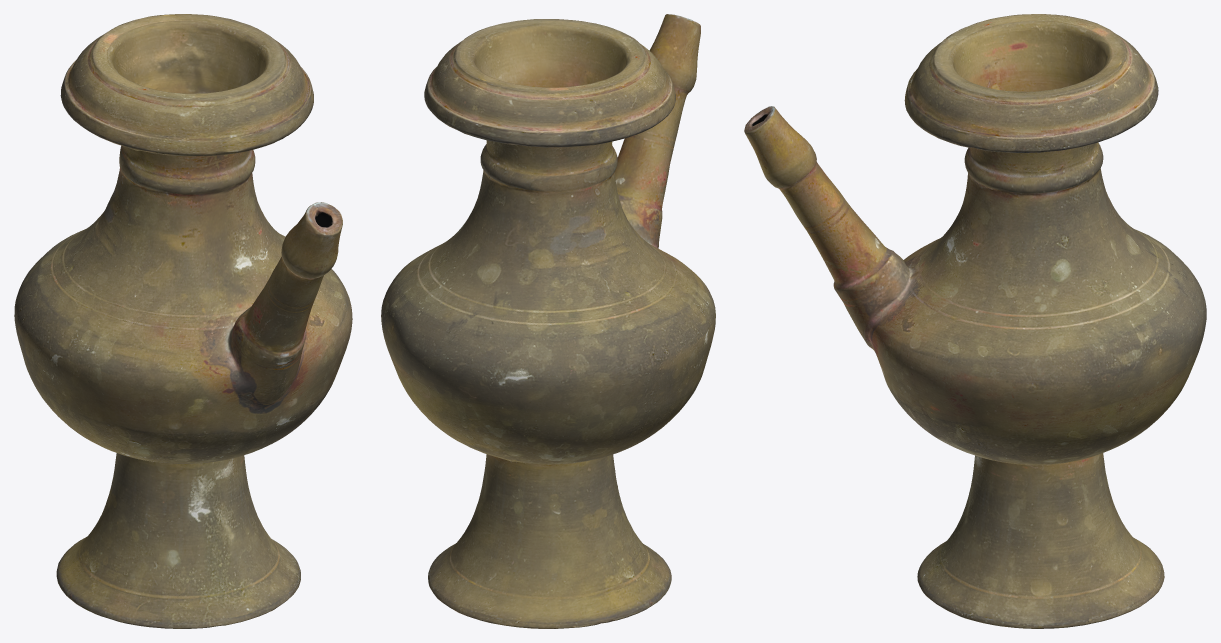
The model's file is karwa.glb.
3 views of the same model, side by side, from view 1: azimuth 30°, elevation 25°; view 2: azimuth 150°, elevation 25°; view 3: azimuth 270°, elevation 25° (orthographic).
Visible parts, largest first — view 1: Model; view 2: Model; view 3: Model.
Part boxes in pixels (box(x1,y1,x2,y2)): Model: box(14, 14, 352, 628); Model: box(381, 14, 715, 628); Model: box(744, 14, 1206, 628).
Size of the model in its own units: 0.0937 by 0.1614 by 0.128.
Materials: 1 (1 with a texture image).
